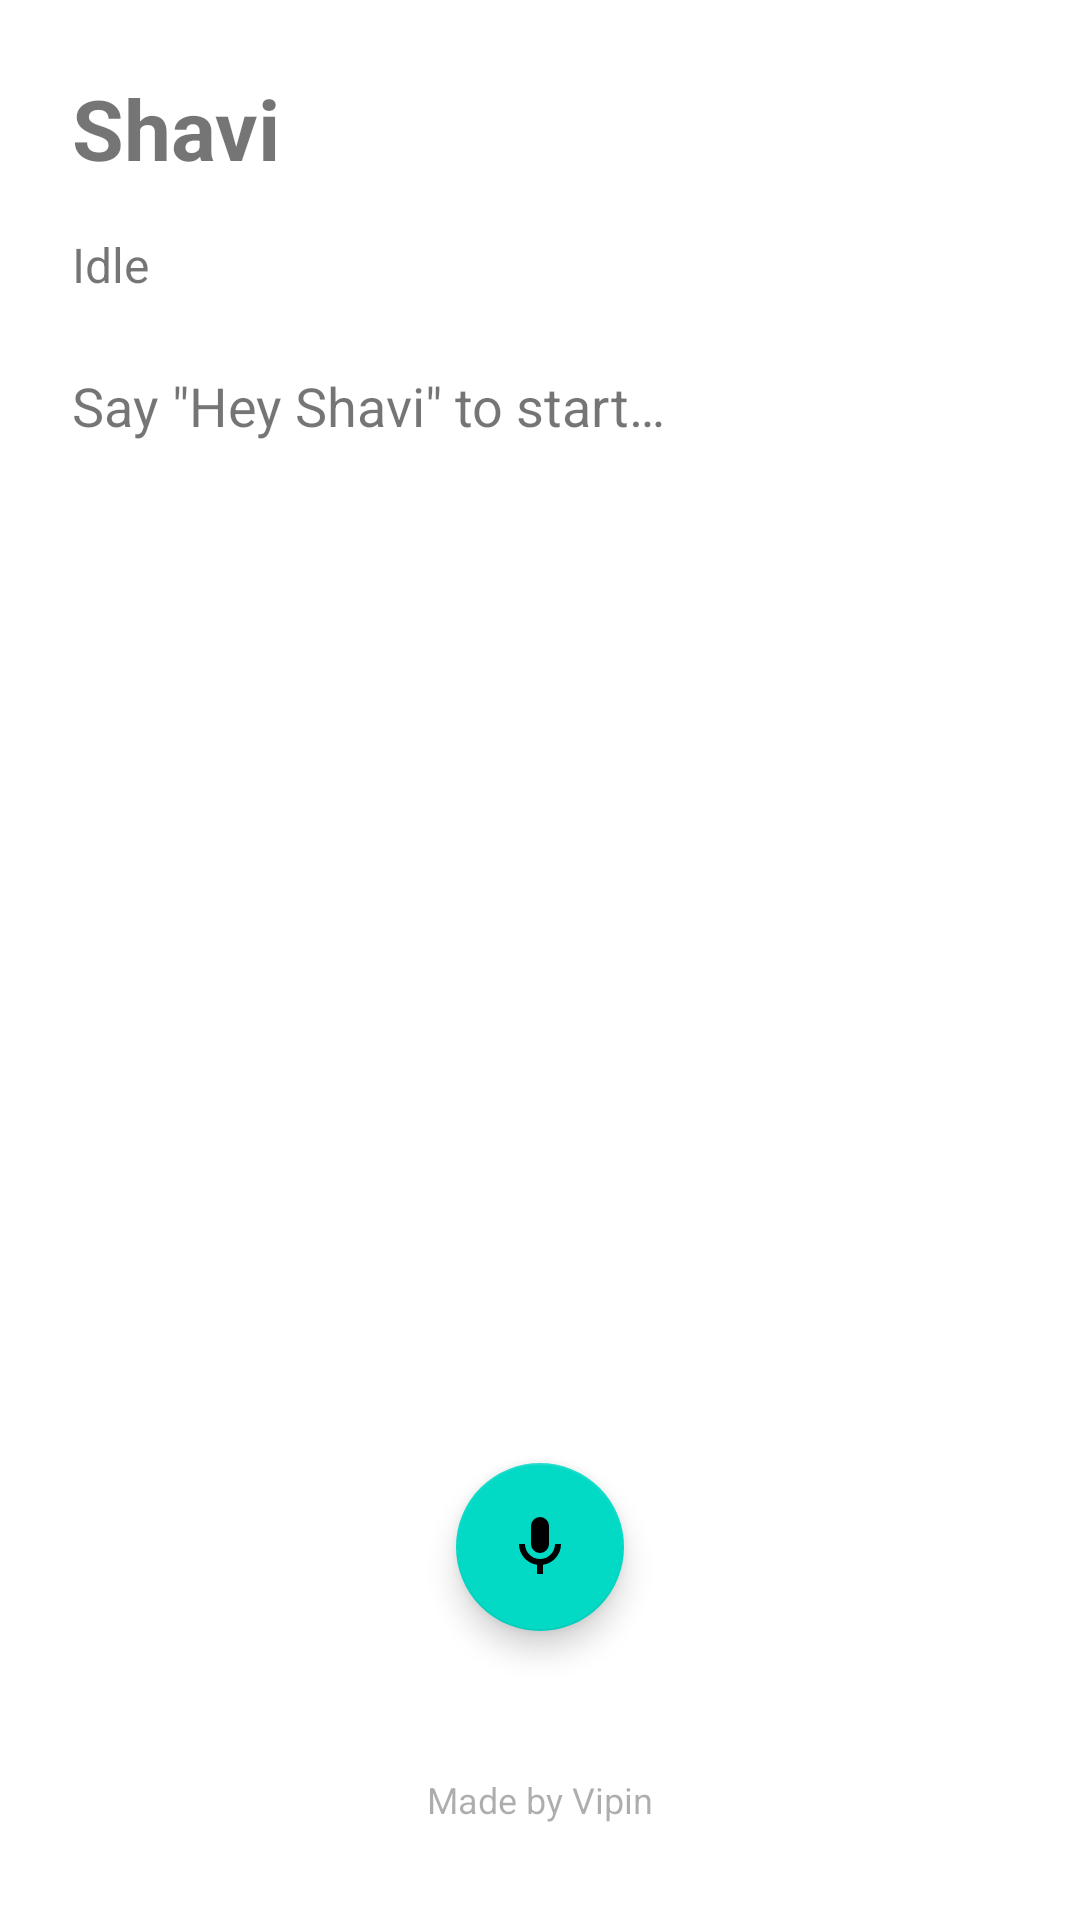

Locate icon controls on the screen. Image size 1080 x 1920, boxes as (x1, y1, x2, y2).
Manual microphone button: (456, 1463, 624, 1631)
